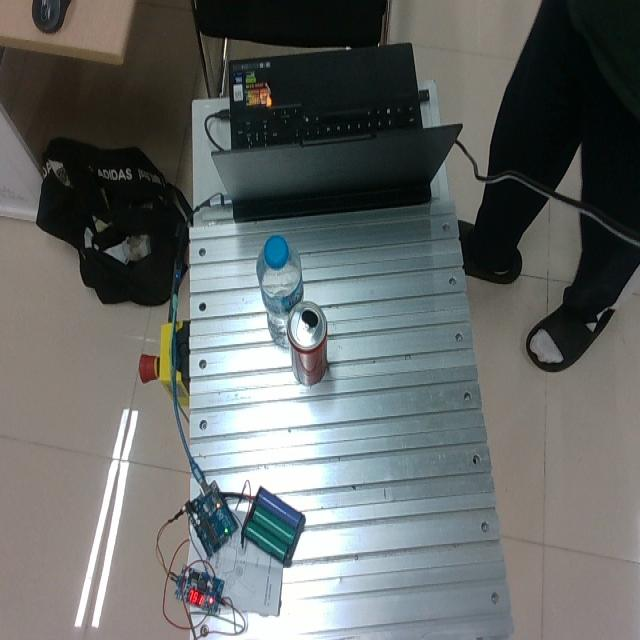coca: (286, 299, 329, 385)
lavie: (256, 235, 304, 346)
